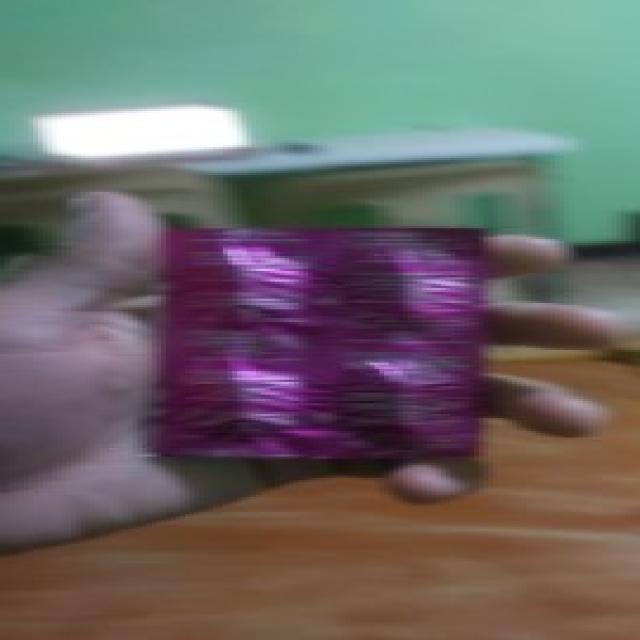Cacat: (163, 227, 481, 460)
